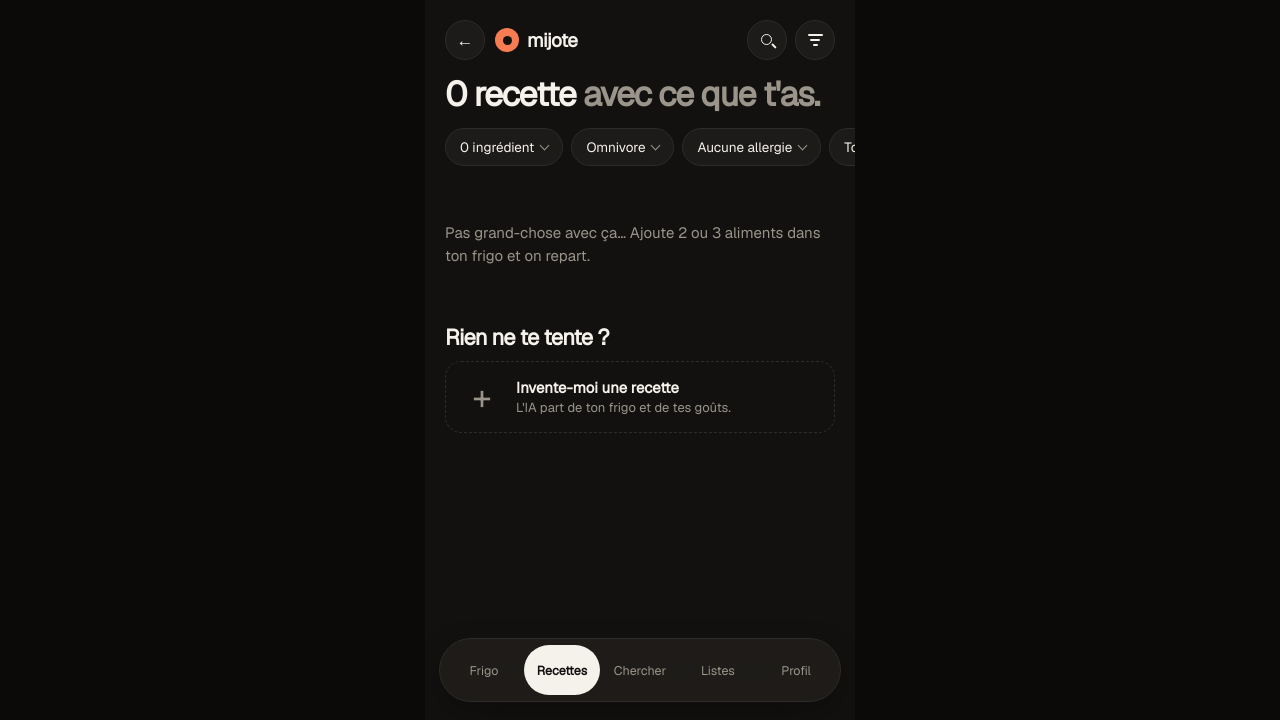
Test: Mijote › explains when the AI is not configured
Click the button "Invente-moi une recette": (640,397) x1=445 y1=361 x2=835 y2=433
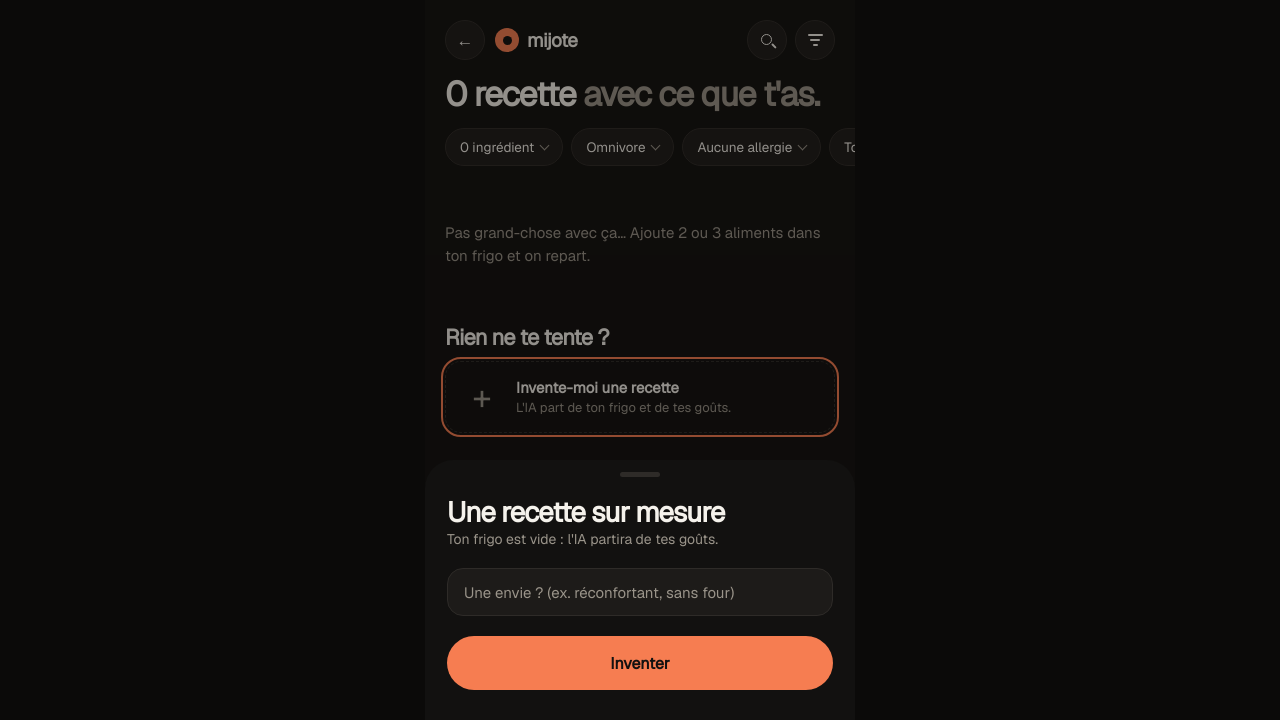
Click the button "Inventer": (640,663) x1=447 y1=636 x2=833 y2=690
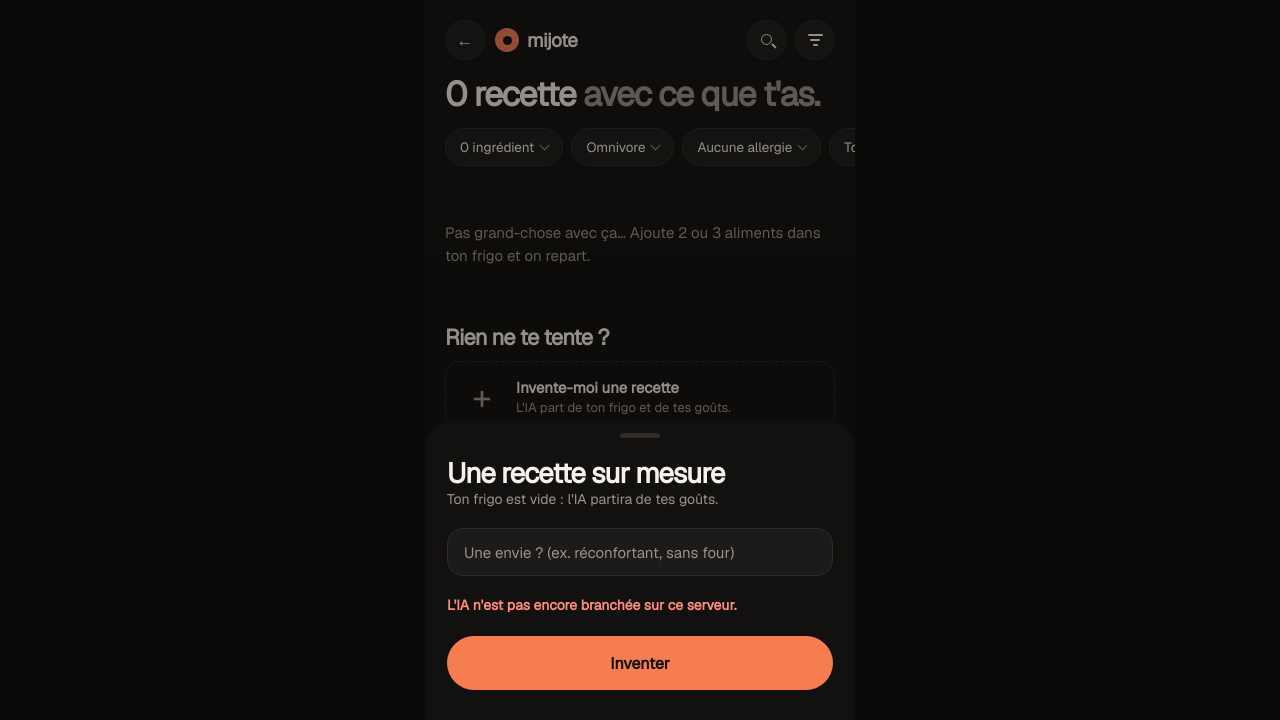
Expected: the message reads "L'IA n'est pas encore branchée sur ce serveur.", x1=447 y1=596 x2=737 y2=614
